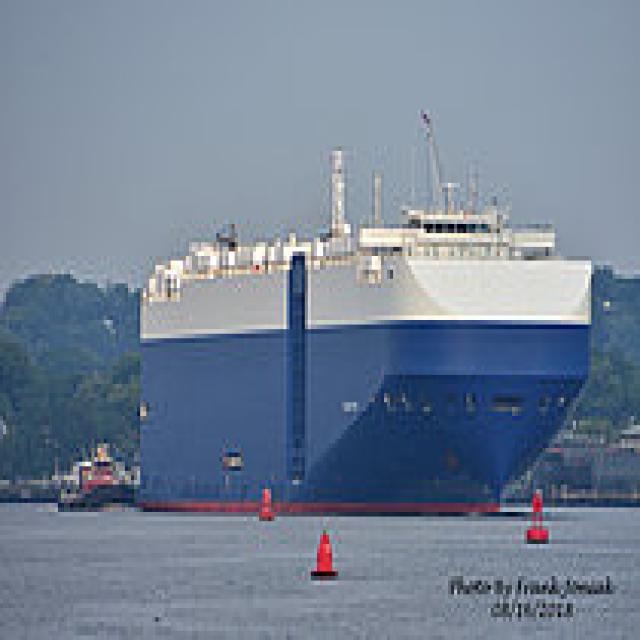Carrier: (131, 96, 594, 517)
